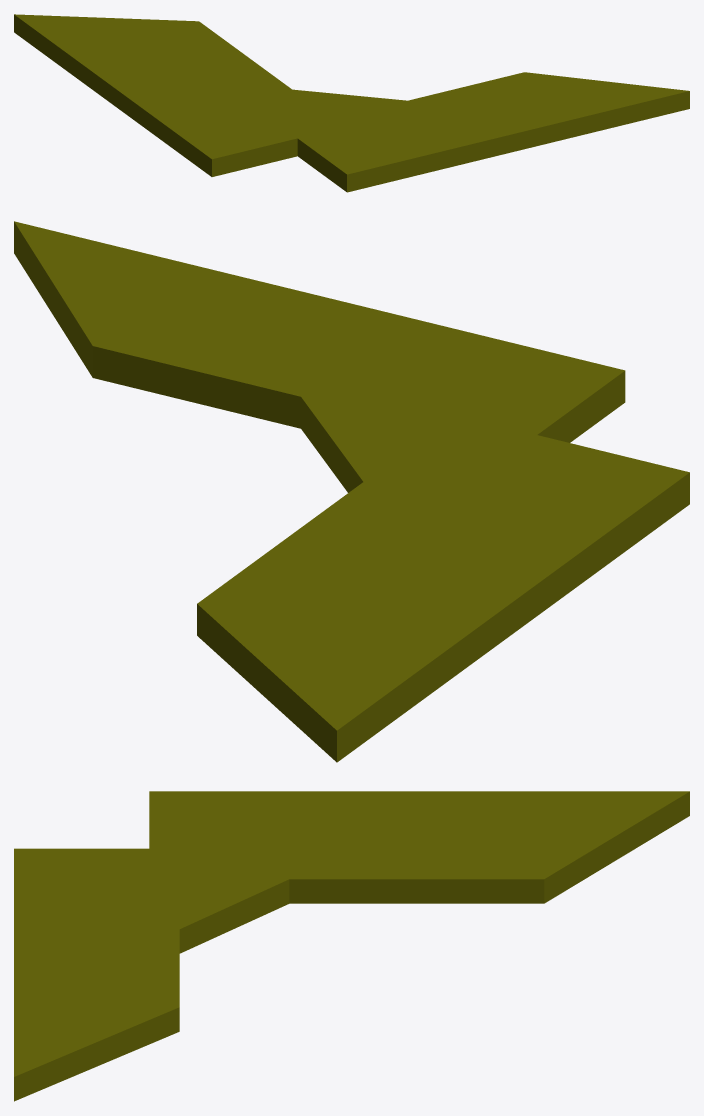
Rendered from x_0_boloto_19_1_rmstrd.fbx.
The picture shows the model from 3 angles, top to bottom: view 1: azimuth 30°, elevation 25°; view 2: azimuth 150°, elevation 25°; view 3: azimuth 270°, elevation 25°; orthographic projection. The views are drawn at different scales.
Visible parts, largest first — view 1: x_0_boloto_19_rmstrd1; view 2: x_0_boloto_19_rmstrd1; view 3: x_0_boloto_19_rmstrd1.
Part boxes in pixels (x1,y1,x2,y2): x_0_boloto_19_rmstrd1: (14,14,689,192); x_0_boloto_19_rmstrd1: (14,221,689,762); x_0_boloto_19_rmstrd1: (14,791,689,1101).
Size of the model in its own units: 5 by 0.2 by 5.
